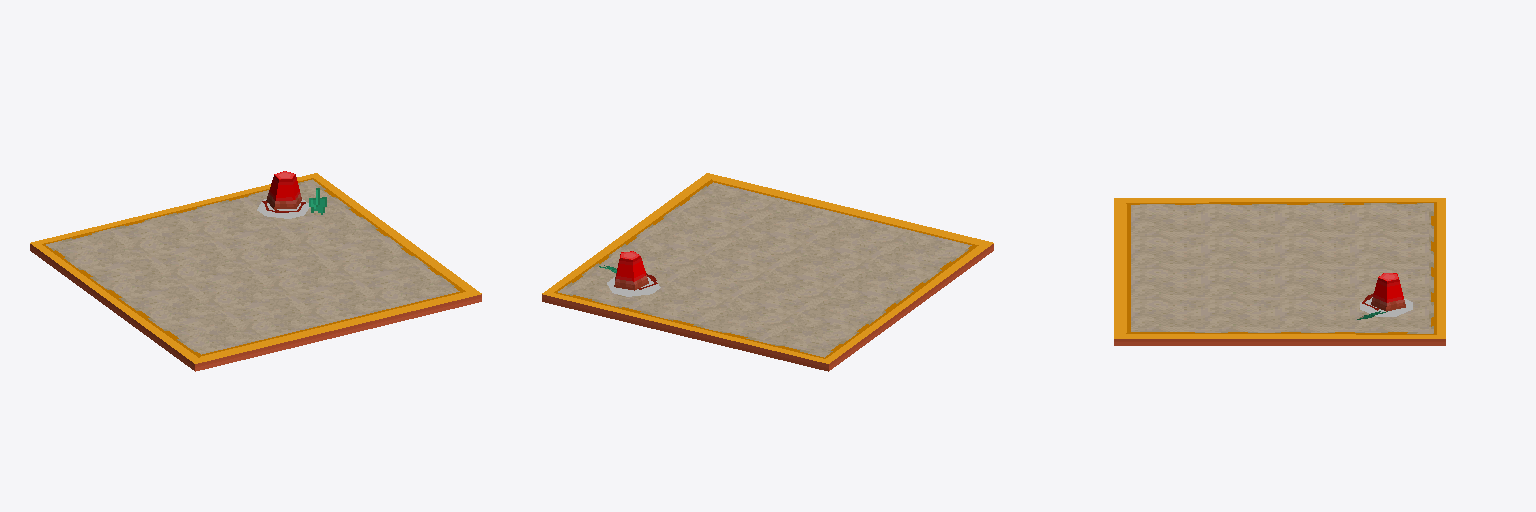
3 renders of one model, left to right at view 1: azimuth 30°, elevation 25°; view 2: azimuth 150°, elevation 25°; view 3: azimuth 270°, elevation 25°, orthographic.
Parts seen in each view (by area): view 1: polygon0, polygon3, polygon4; view 2: polygon0, polygon3, polygon4; view 3: polygon0, polygon3, polygon4.
Part boxes in pixels (x1,y1,x2,y2): polygon0: (52, 182, 459, 354); polygon3: (30, 173, 481, 371); polygon4: (262, 171, 305, 212); polygon0: (564, 182, 971, 354); polygon3: (542, 173, 993, 371); polygon4: (614, 251, 657, 290); polygon0: (1131, 205, 1428, 331); polygon3: (1114, 198, 1445, 345); polygon4: (1362, 273, 1405, 311).
Bounding box in the file's own units: 80 × 10.66 × 80.
Materials: 5 (4 with a texture image).